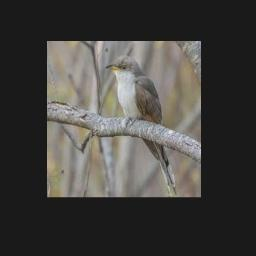Cuckoo: (105, 56, 177, 196)
